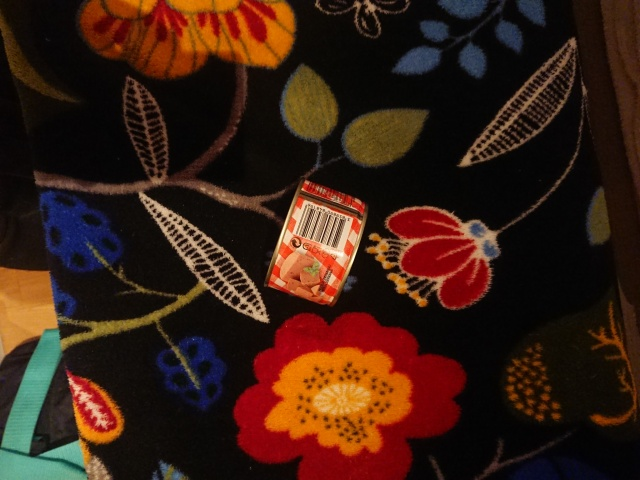Podravka Luncheon Meat 150g: (260, 174, 372, 311)
